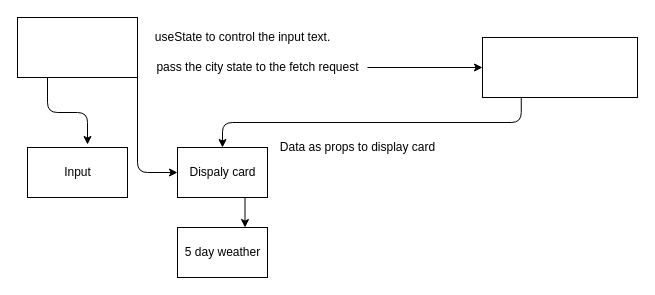
The diagram is 655 pixels wide and 295 high, and some of its shapes have lost their labels. Each missing label, with the centre of its shape:
App: the point at 77,47
fetch request returns data: the point at 560,67
